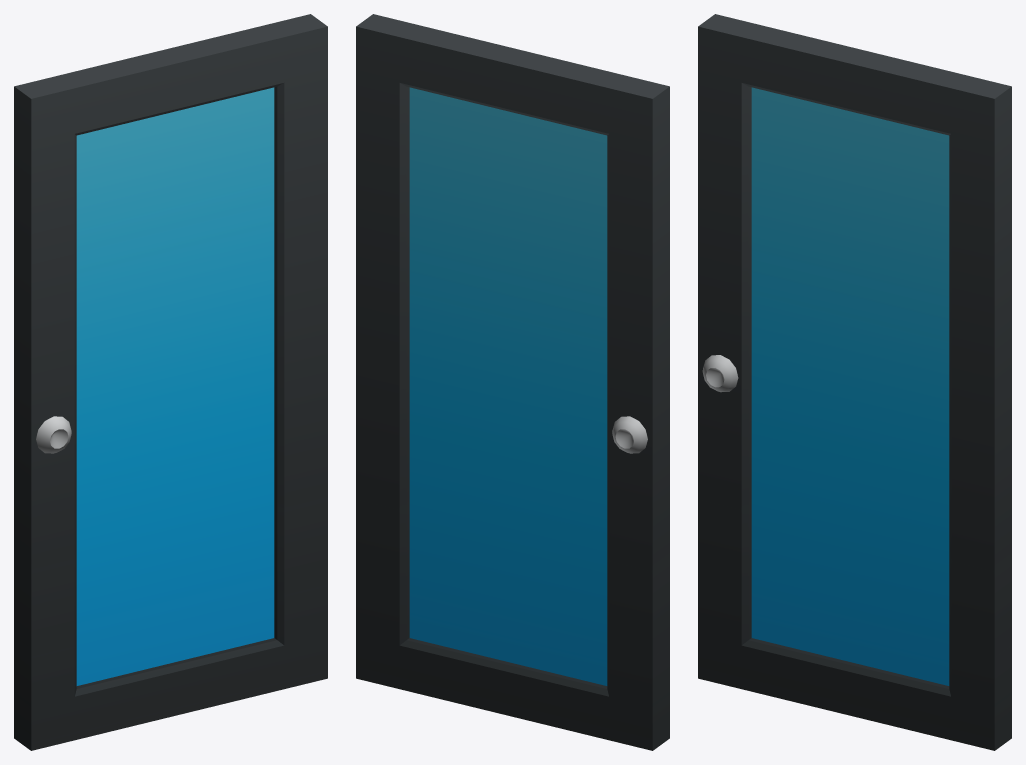
File: Door_Black_05.glb
3 renders of one model, left to right at view 1: azimuth 30°, elevation 25°; view 2: azimuth 150°, elevation 25°; view 3: azimuth 330°, elevation 25°, orthographic.
Visible parts, largest first — view 1: Door_Black_05; view 2: Door_Black_05; view 3: Door_Black_05.
Part boxes in pixels (x1,y1,x2,y2): Door_Black_05: [14, 14, 327, 750]; Door_Black_05: [356, 14, 669, 750]; Door_Black_05: [698, 14, 1011, 750].
Size of the model in its own units: 1 by 2.1 by 0.1634.
Materials: 2 (2 with a texture image).
